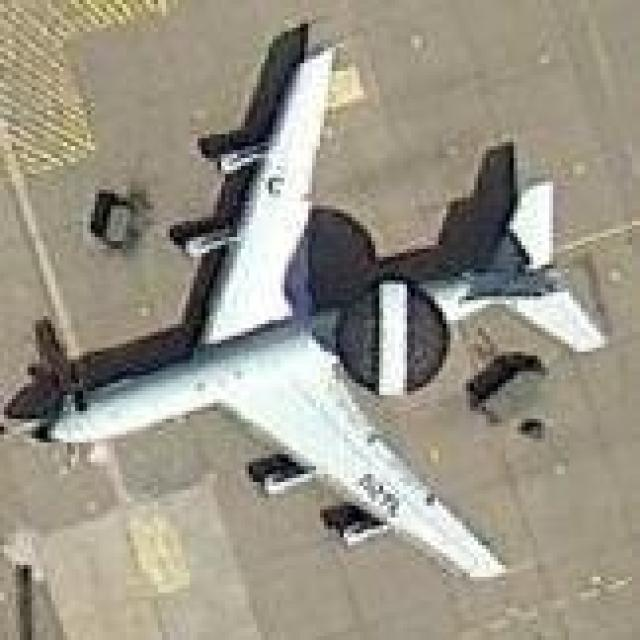E-3_TopDown: (0, 25, 613, 578)
